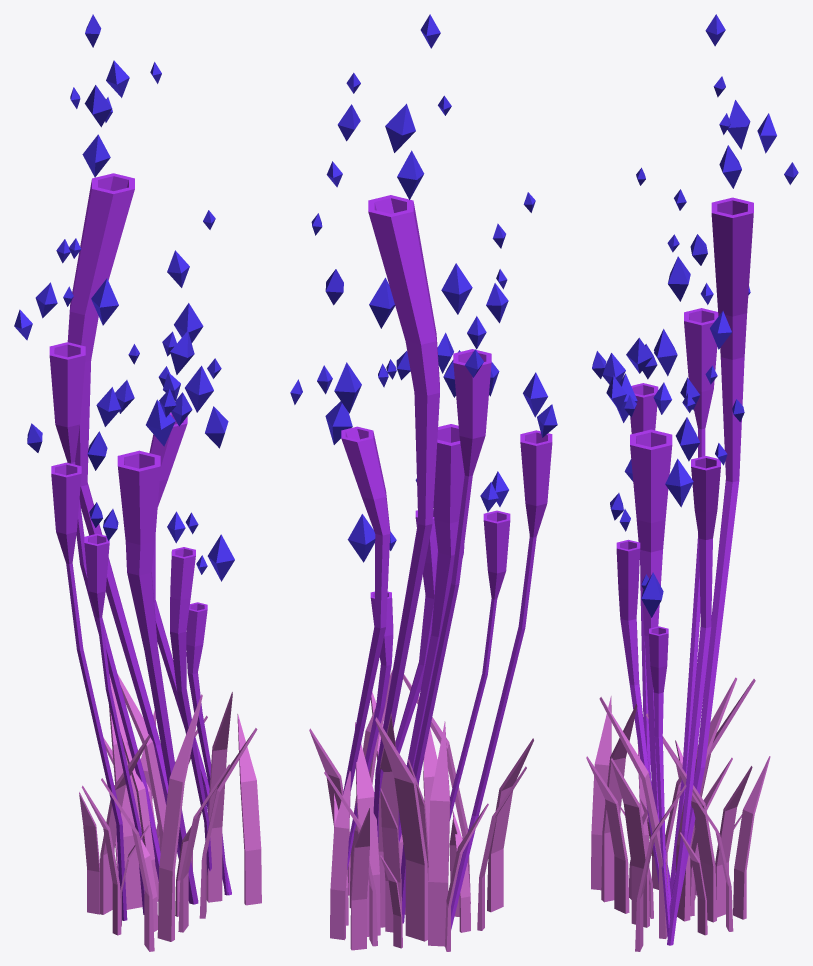
Rendered from NC_Plant01.fbx.
3 renders of one model, left to right at view 1: azimuth 30°, elevation 25°; view 2: azimuth 150°, elevation 25°; view 3: azimuth 270°, elevation 25°, orthographic. The views are drawn at different scales.
Visible parts, largest first — view 1: NC_Plant01; view 2: NC_Plant01; view 3: NC_Plant01.
Part boxes in pixels (box(x1,y1,x2,y2)): NC_Plant01: box(14, 14, 261, 951); NC_Plant01: box(290, 14, 557, 951); NC_Plant01: box(586, 14, 798, 951).
Bounding box in the file's own units: 32.56 × 124 × 27.16.
1 material, 1 textured.
